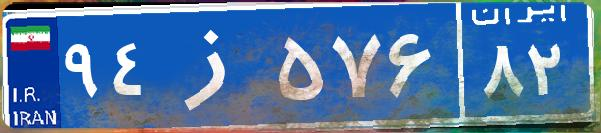2: (525, 38, 570, 115)
4: (110, 28, 158, 105)
5: (273, 28, 330, 110)
6: (385, 28, 445, 110)
7: (330, 28, 385, 110)
8: (475, 38, 525, 113)
9: (57, 26, 110, 107)
ز: (158, 15, 273, 115)
